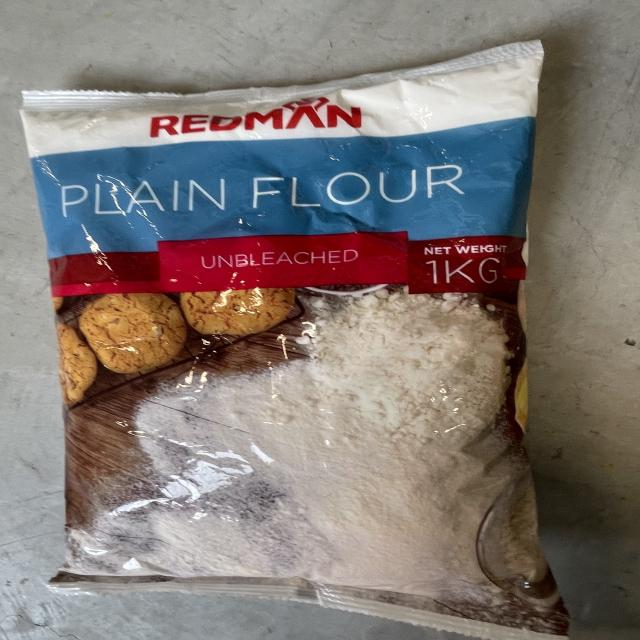object_name: (37, 91, 535, 613)
